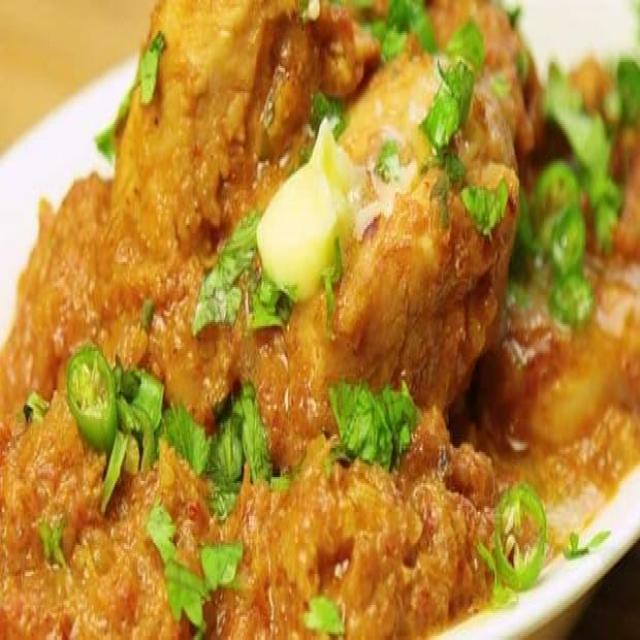chicken: (9, 22, 639, 622)
